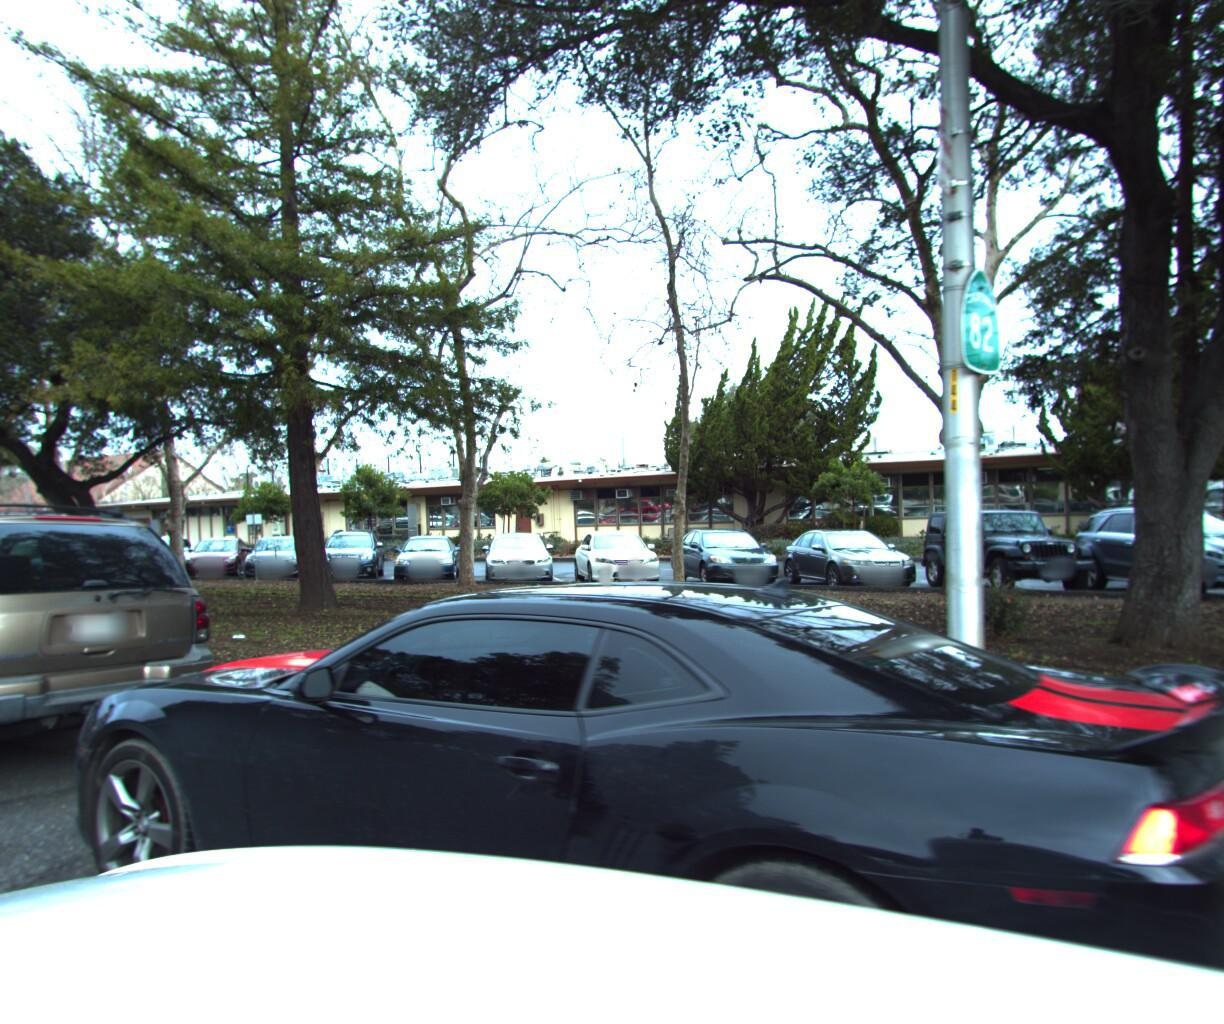car: (0, 546, 1224, 1024), (0, 486, 247, 854)
